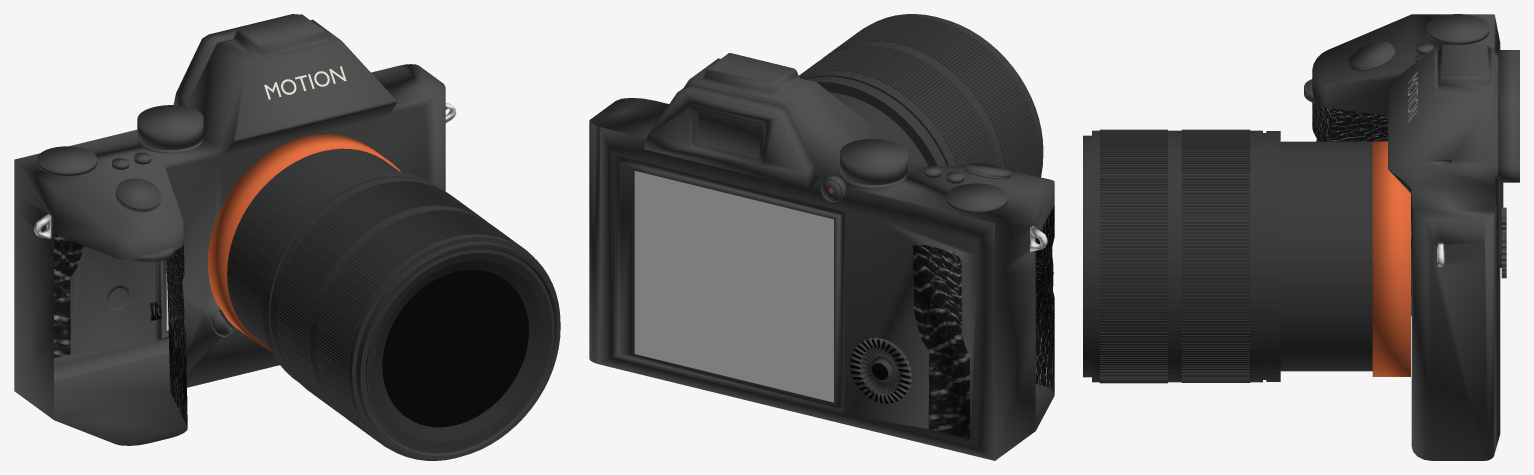
Rendered from a7iii_3D5.gltf.
The picture shows the model from 3 angles, left to right: view 1: azimuth 30°, elevation 25°; view 2: azimuth 150°, elevation 25°; view 3: azimuth 270°, elevation 25°; orthographic projection. The views are drawn at different scales.
Visible parts, largest first — view 1: Cube, Circle, Circle.001, Text; view 2: Cube, Circle; view 3: Circle, Cube.
Boxes of the visible parts, x1=… form: Cube: x1=14, y1=14, x2=456, y2=445; Circle: x1=227, y1=148, x2=560, y2=460; Circle.001: x1=382, y1=269, x2=528, y2=427; Text: x1=264, y1=66, x2=346, y2=99; Cube: x1=589, y1=53, x2=1054, y2=460; Circle: x1=799, y1=14, x2=1043, y2=177; Circle: x1=1083, y1=129, x2=1372, y2=383; Cube: x1=1304, y1=14, x2=1519, y2=460.
Bounding box in the file's own units: 4.12 × 2.85 × 3.47.
Materials: 11 (3 with a texture image).
